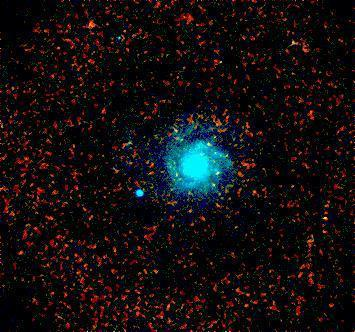star: (76, 8, 106, 38)
